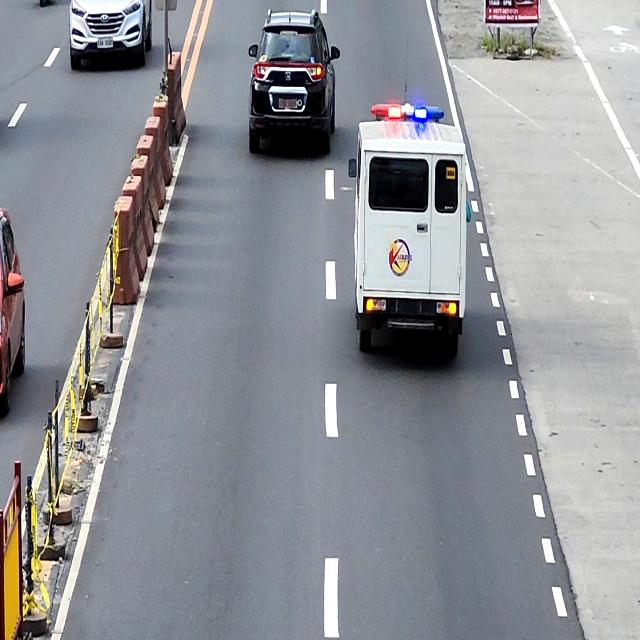Car: (348, 101, 470, 356), (248, 8, 340, 154), (69, 0, 152, 70), (0, 206, 25, 414)
License-Plate: (96, 35, 114, 50), (278, 97, 298, 109)
